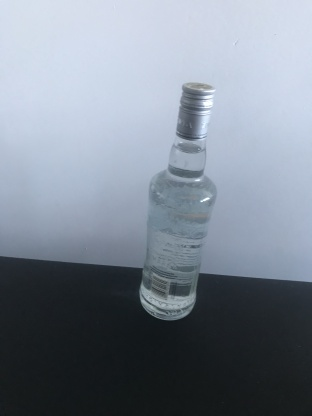nakretka: (174, 81, 216, 143)
